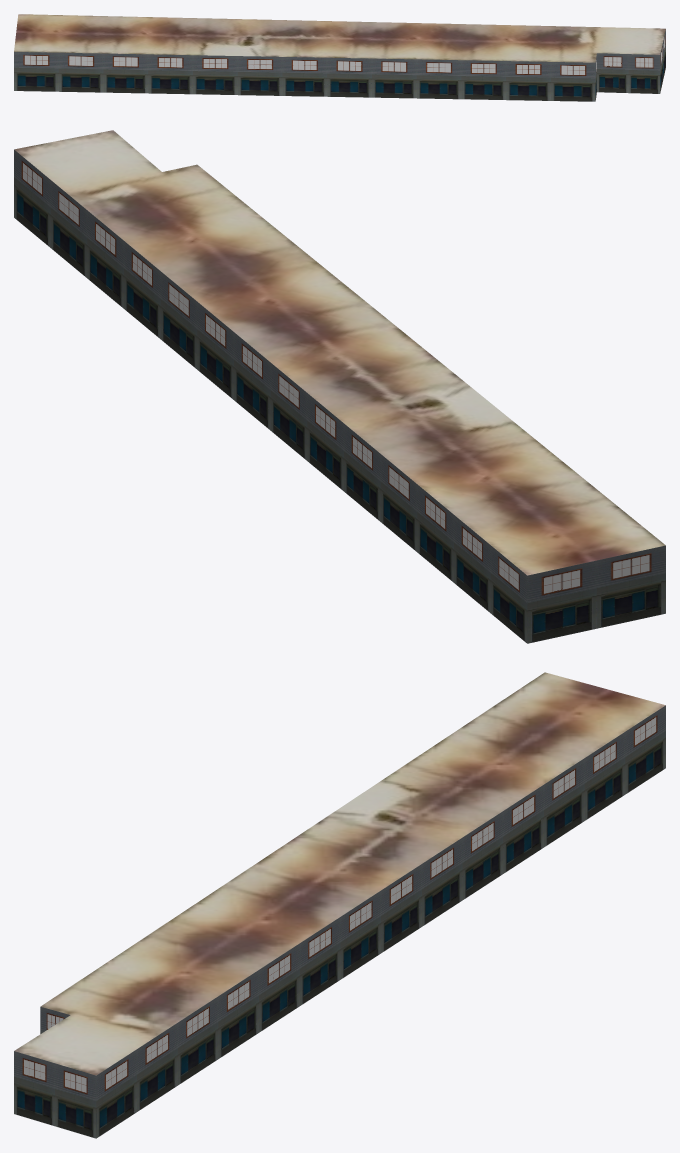
3 views of the same model, one above another, from view 1: azimuth 30°, elevation 25°; view 2: azimuth 150°, elevation 25°; view 3: azimuth 270°, elevation 25° (orthographic). The views are drawn at different scales.
Parts seen in each view (by area): view 1: SketchUp (×5); view 2: SketchUp (×5); view 3: SketchUp (×5).
Boxes of the visible parts, x1,y1,x2,y2 form: SketchUp (×5): (14, 14, 665, 101); SketchUp (×5): (14, 130, 665, 643); SketchUp (×5): (14, 672, 665, 1138).
Bounding box in the file's own units: 76.19 × 52.04 × 5.55.
3 materials, 3 textured.
